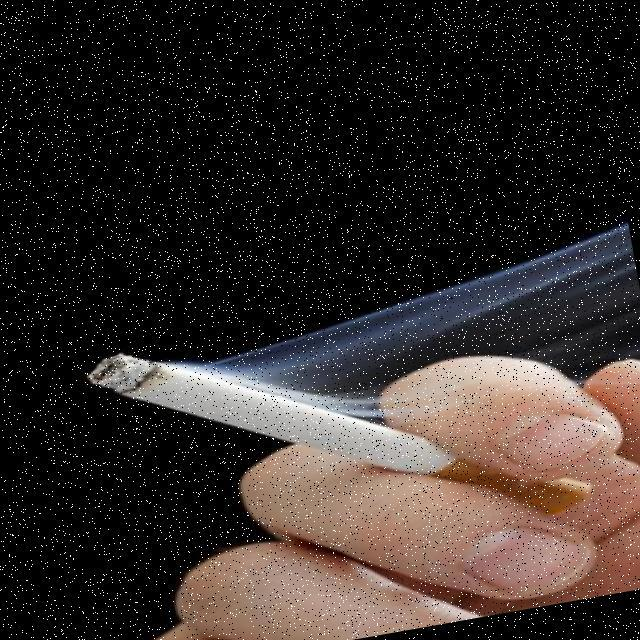cigarette: (64, 297, 448, 534)
